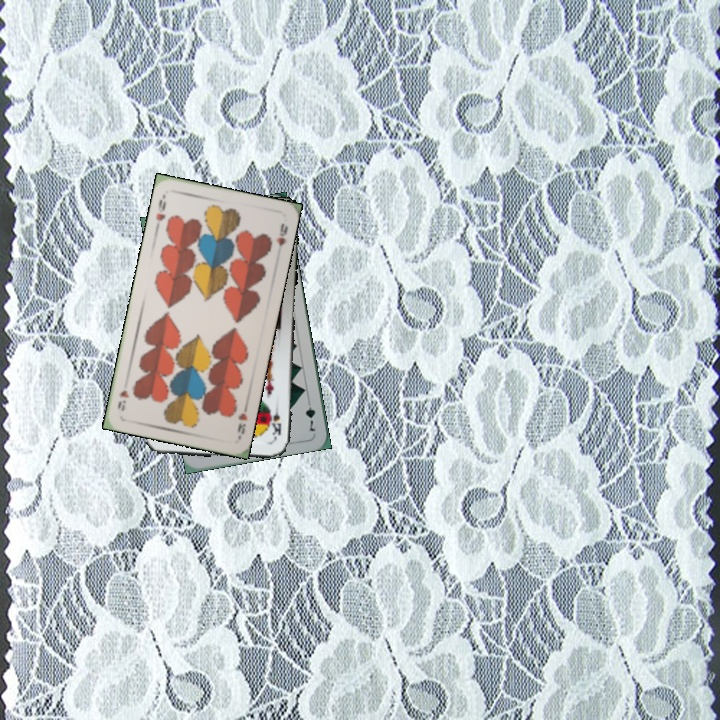G7: (301, 394, 318, 434)
H9: (233, 400, 250, 437), (152, 195, 169, 230)
SK: (268, 401, 284, 441)
